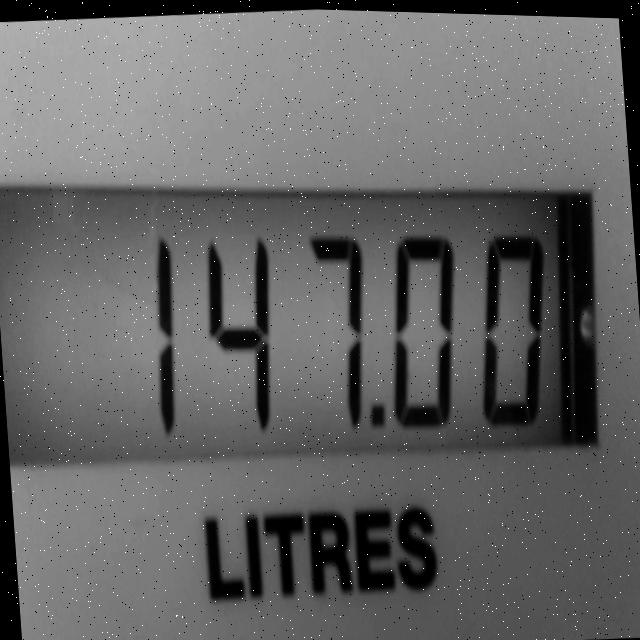.: (365, 385, 398, 441)
0: (466, 216, 561, 433), (378, 218, 472, 434)
1: (119, 223, 196, 453)
4: (194, 220, 290, 429)
7: (290, 216, 374, 445)
